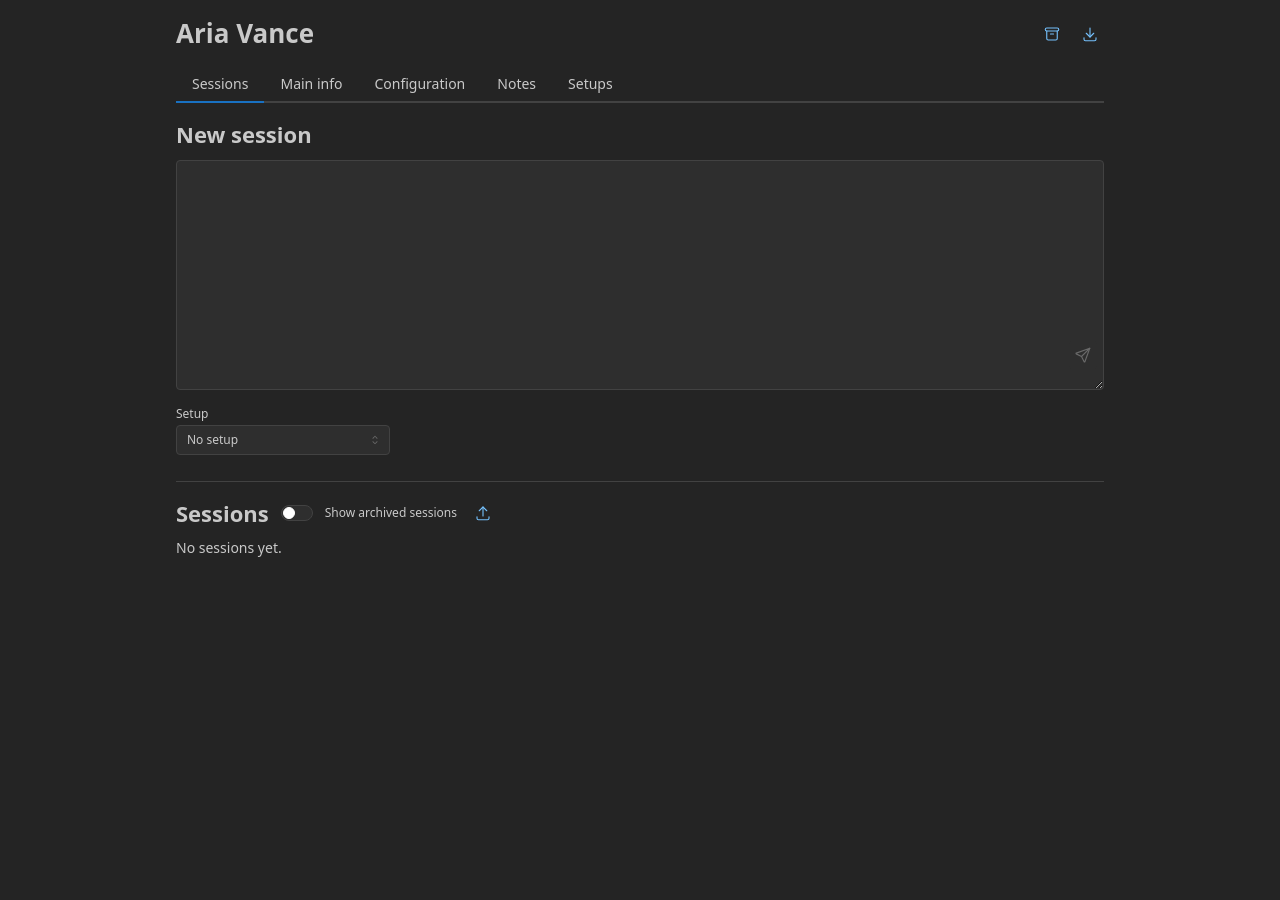
Test case: feedback: silent on success, one notification on failure (DoD-7) › a failed export raises exactly one notification carrying the error's message — DoD-7
The image size is (1280, 900).
Click the button named "export" at (1090, 34), box x1=1076 y1=20 x2=1104 y2=48
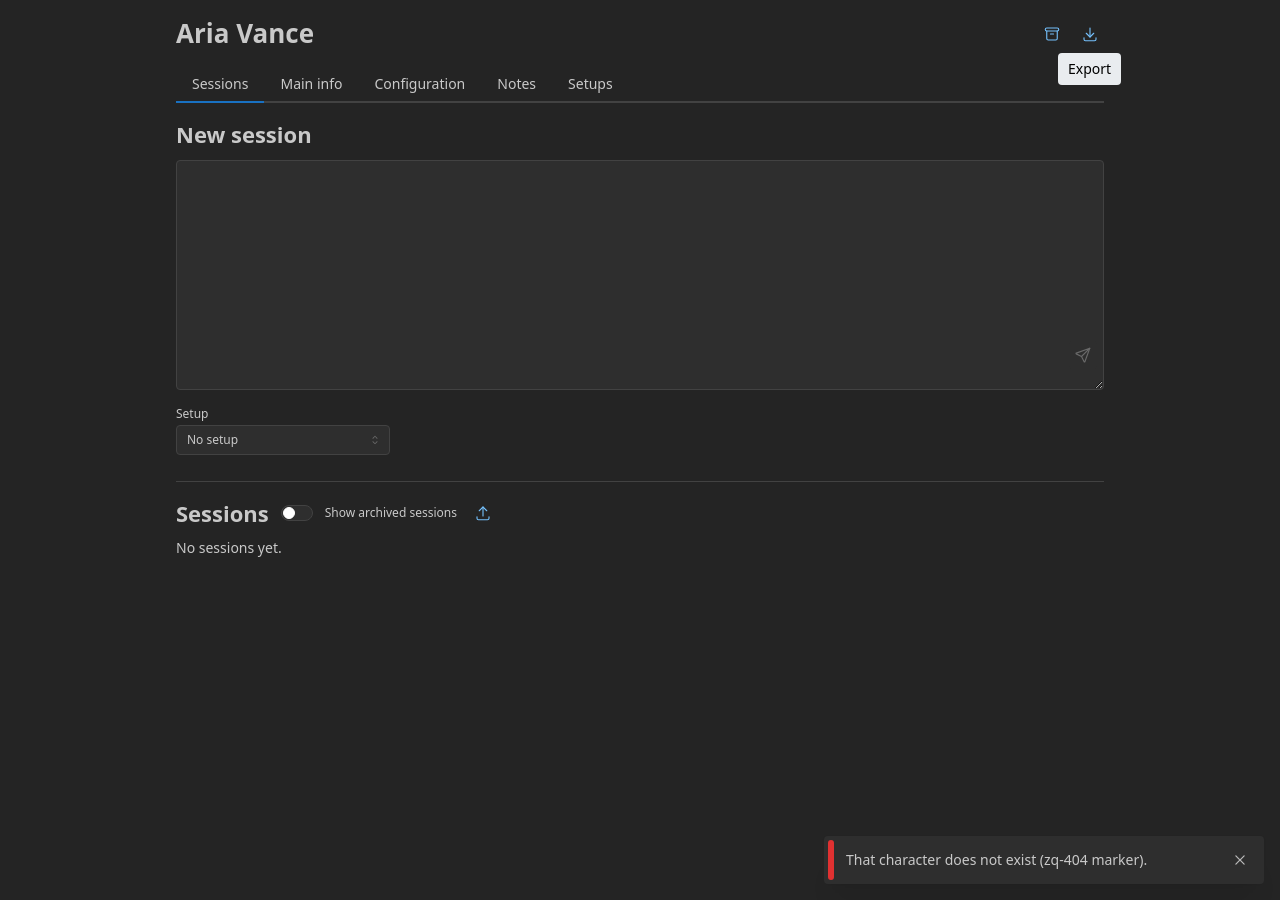
Expected: the text "That character does not exist (zq-404 marker)." is shown, x1=846 y1=850 x2=1147 y2=869
